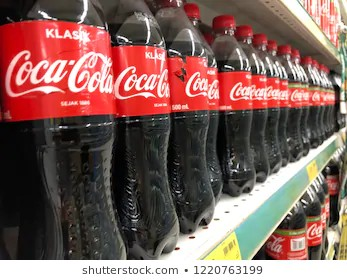coke-bottle-2l: (1, 2, 120, 259), (109, 1, 176, 255), (160, 1, 217, 232), (207, 17, 260, 195), (237, 21, 272, 179)
